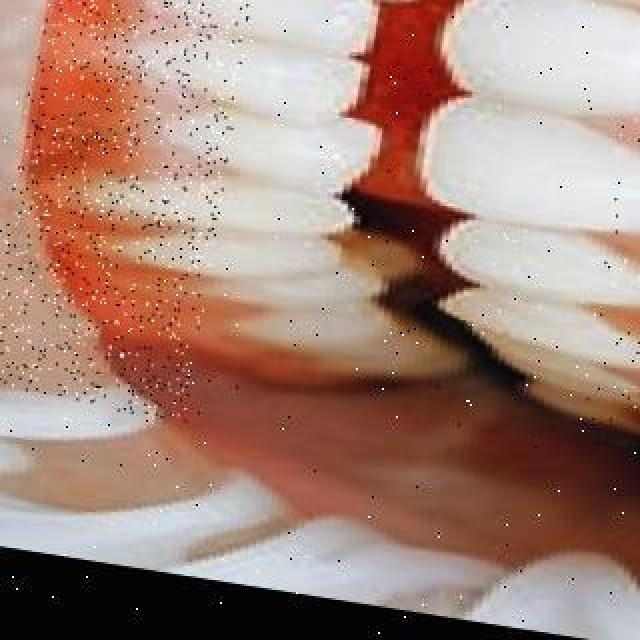maligned: (163, 16, 367, 122), (205, 95, 391, 195), (240, 0, 430, 32), (510, 0, 640, 34)
